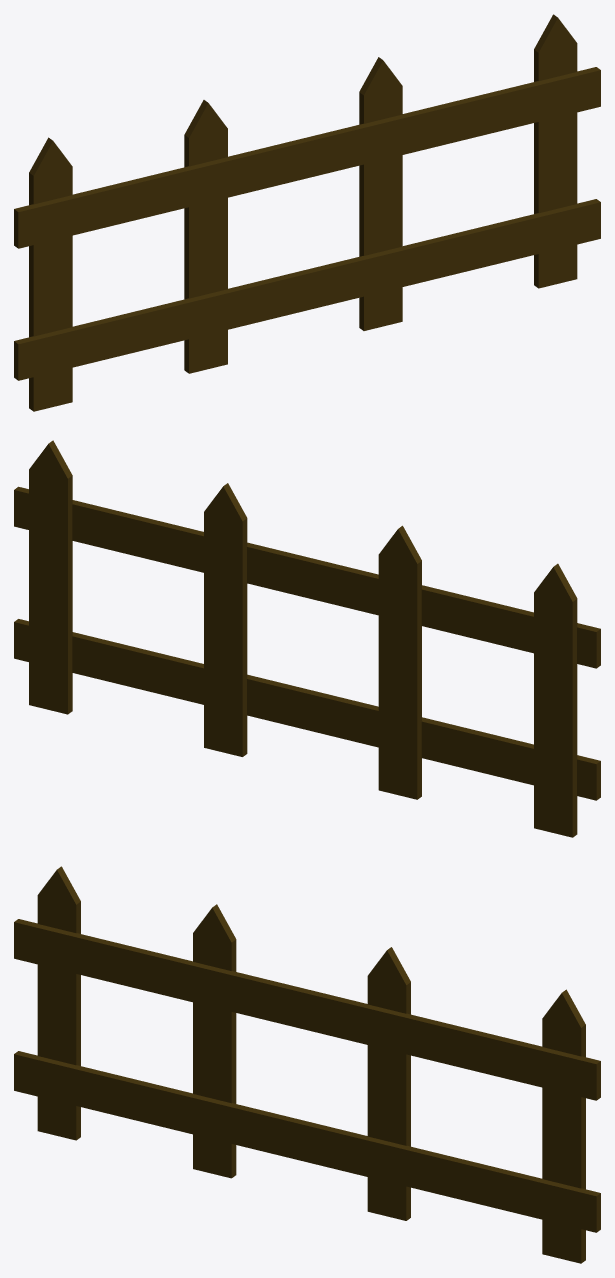
3 views of the same model, one above another, from view 1: azimuth 30°, elevation 25°; view 2: azimuth 150°, elevation 25°; view 3: azimuth 330°, elevation 25° (orthographic).
Parts seen in each view (by area): view 1: Fence2; view 2: Fence2; view 3: Fence2.
Part boxes in pixels (x1=…): Fence2: x1=14, y1=14, x2=600, y2=411; Fence2: x1=14, y1=440, x2=600, y2=837; Fence2: x1=14, y1=866, x2=600, y2=1263.
Bounding box in the file's own units: 600 × 262 × 15.71.
